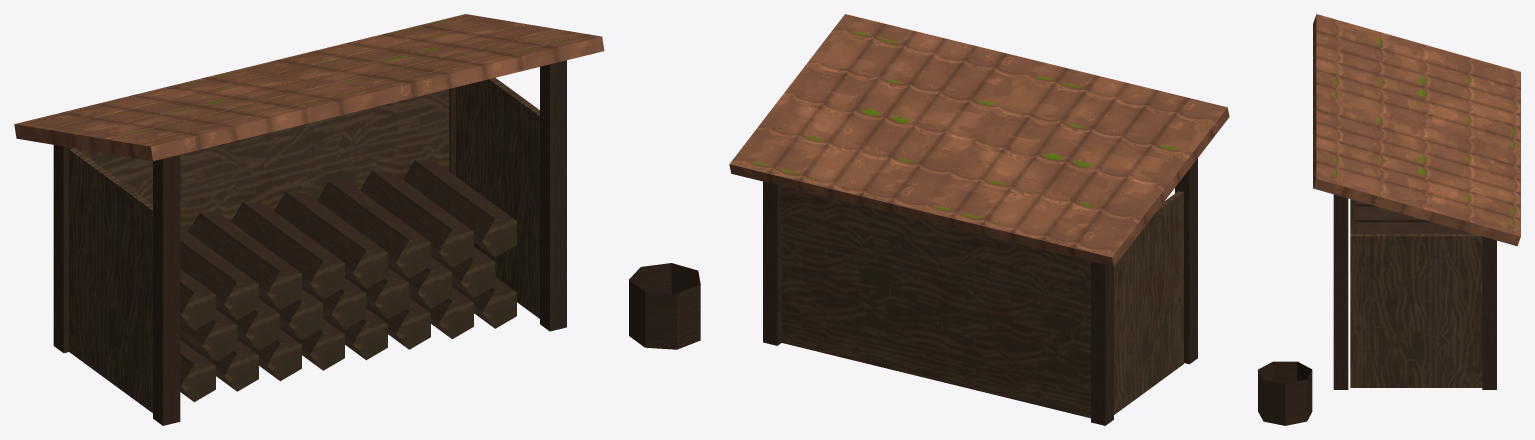
File: woodshed.glb
The picture shows the model from 3 angles, left to right: view 1: azimuth 30°, elevation 25°; view 2: azimuth 150°, elevation 25°; view 3: azimuth 270°, elevation 25°; orthographic projection. The views are drawn at different scales.
Visible parts, largest first — view 1: woodshed; view 2: woodshed; view 3: woodshed.
Boxes of the visible parts, x1,y1,x2,y2 form: woodshed: (14,14,700,425); woodshed: (729,14,1229,425); woodshed: (1258,14,1520,425).
Size of the model in its own units: 4.9 by 2.61 by 2.83.
Materials: 2 (2 with a texture image).
